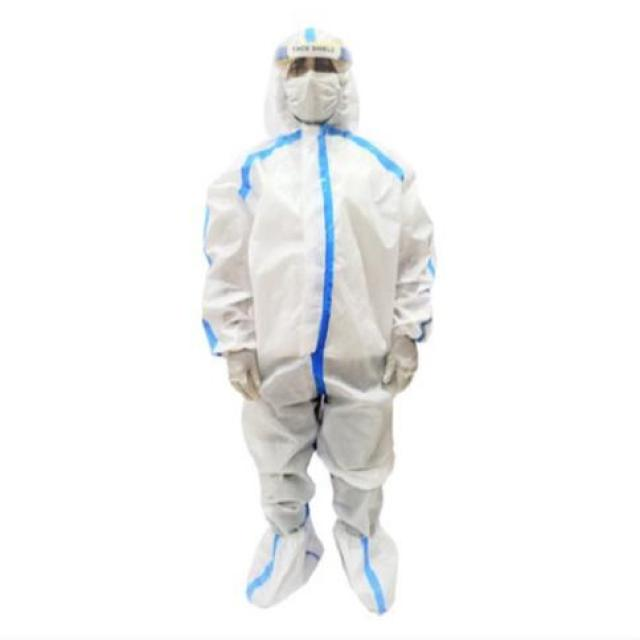Coverall: (217, 8, 438, 609)
Gloves: (217, 336, 308, 432), (370, 338, 435, 418)
Mask: (284, 74, 353, 118)
